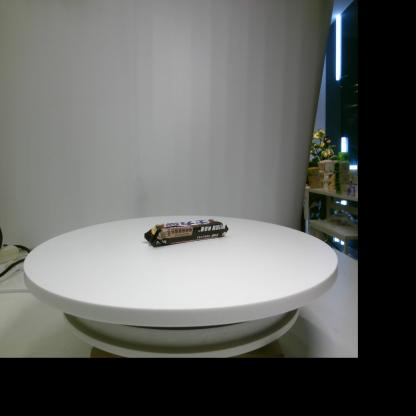Chocolate: (144, 219, 229, 247)
